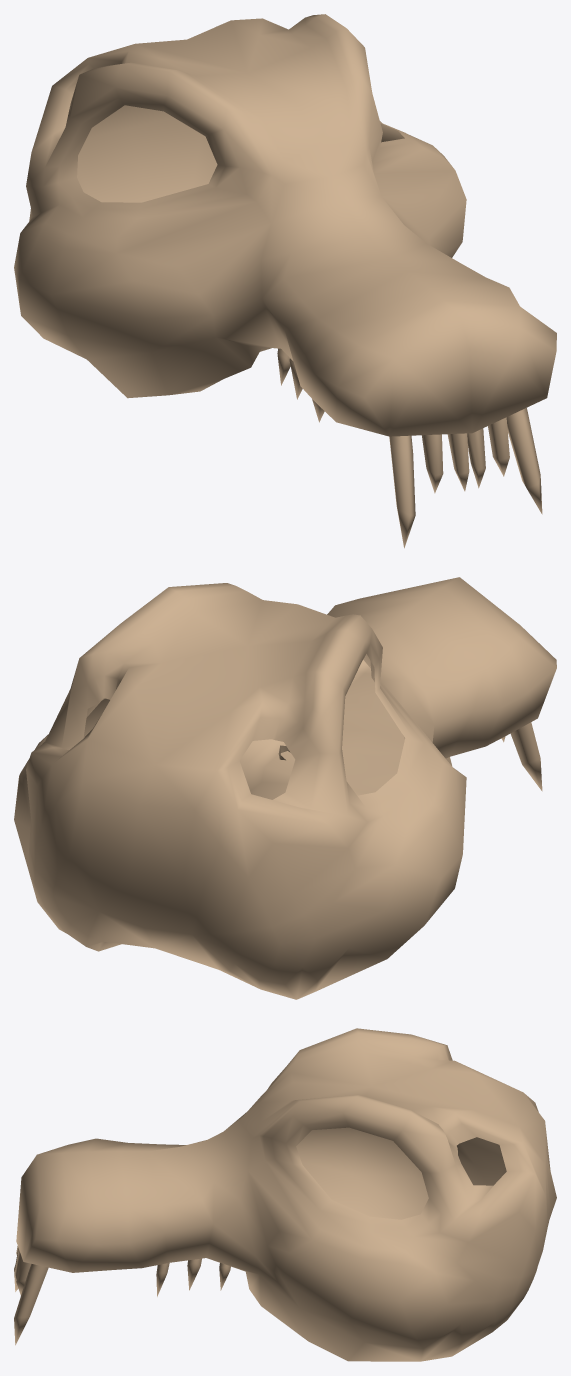
Rendered from czaszkaWilka.fbx.
3 renders of one model, top to bottom at view 1: azimuth 30°, elevation 25°; view 2: azimuth 150°, elevation 25°; view 3: azimuth 270°, elevation 25°, orthographic. The views are drawn at different scales.
Parts seen in each view (by area): view 1: Czaszka1; view 2: Czaszka1; view 3: Czaszka1.
Boxes of the visible parts, x1,y1,x2,y2 form: Czaszka1: [14, 14, 556, 548]; Czaszka1: [14, 577, 556, 999]; Czaszka1: [14, 1028, 556, 1361].
Size of the model in its own units: 213 by 160 by 301.
